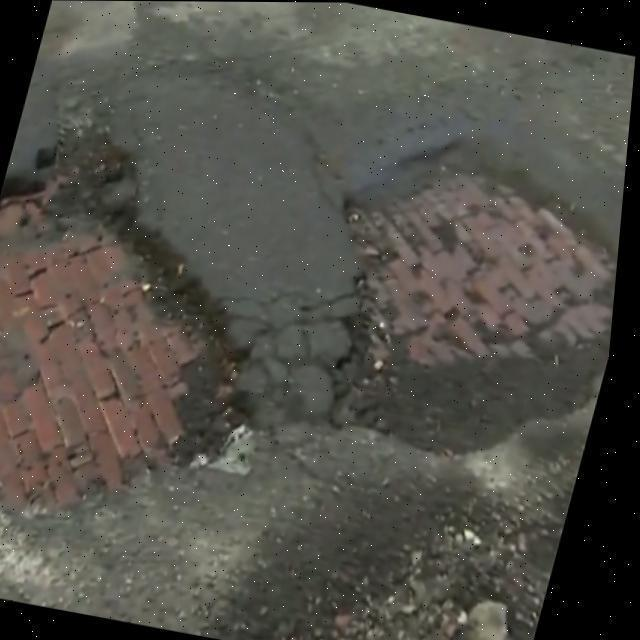Pothole: (0, 106, 263, 528), (326, 133, 619, 471), (347, 504, 562, 640)
